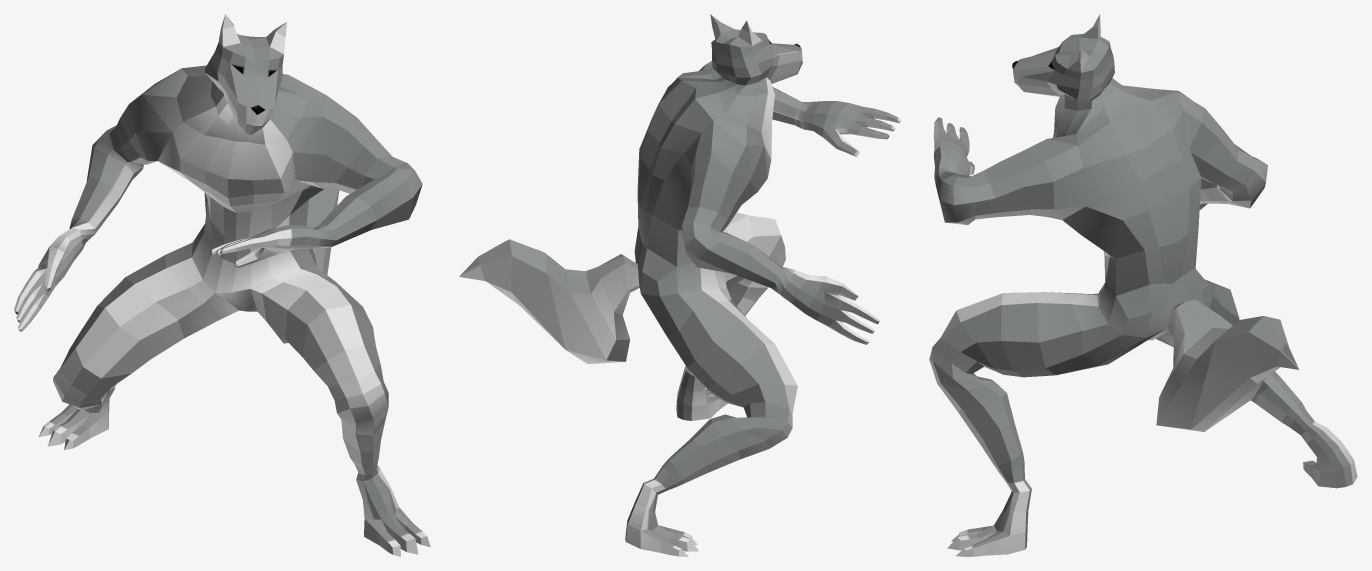
Rendered from WolfAttack(17).obj.
3 views of the same model, side by side, from view 1: azimuth 30°, elevation 25°; view 2: azimuth 150°, elevation 25°; view 3: azimuth 270°, elevation 25° (orthographic). The views are drawn at different scales.
Visible parts, largest first — view 1: Box001; view 2: Box001; view 3: Box001.
Boxes of the visible parts, box(x1,y1,x2,y2) form: Box001: box(14, 14, 430, 556); Box001: box(459, 14, 900, 556); Box001: box(929, 14, 1357, 556).
Bounding box in the file's own units: 106 × 129 × 104.
